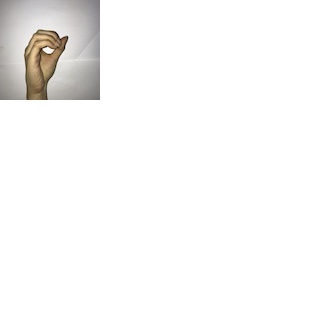rock: (20, 25, 70, 88)
